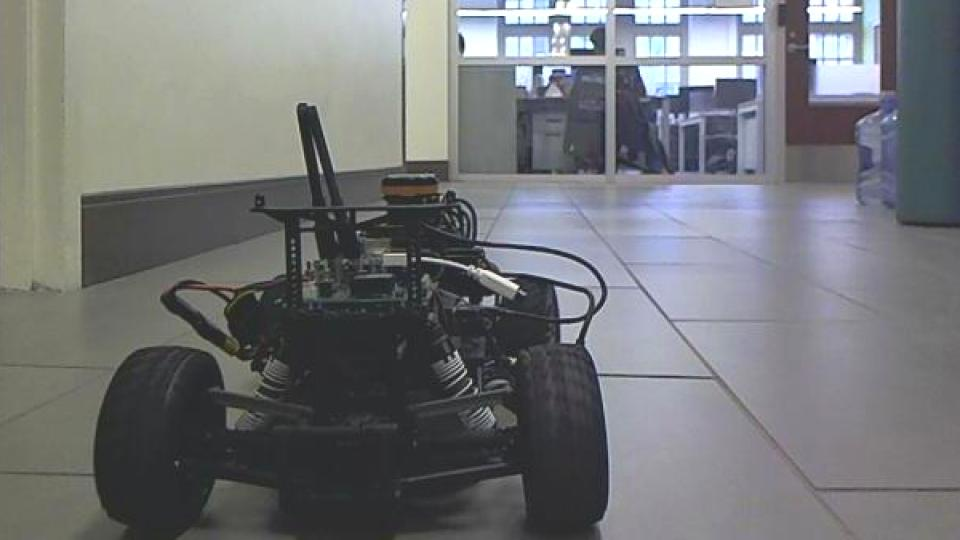car: (90, 99, 617, 540)
